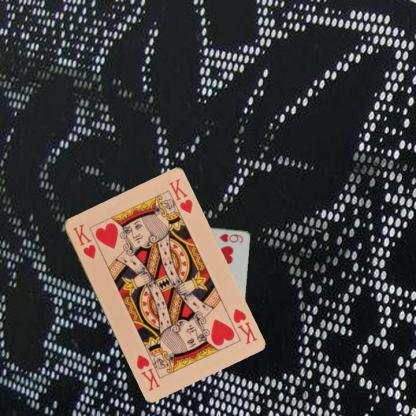6h: (218, 231, 245, 244)
Kh: (69, 220, 97, 260), (230, 306, 258, 346)
